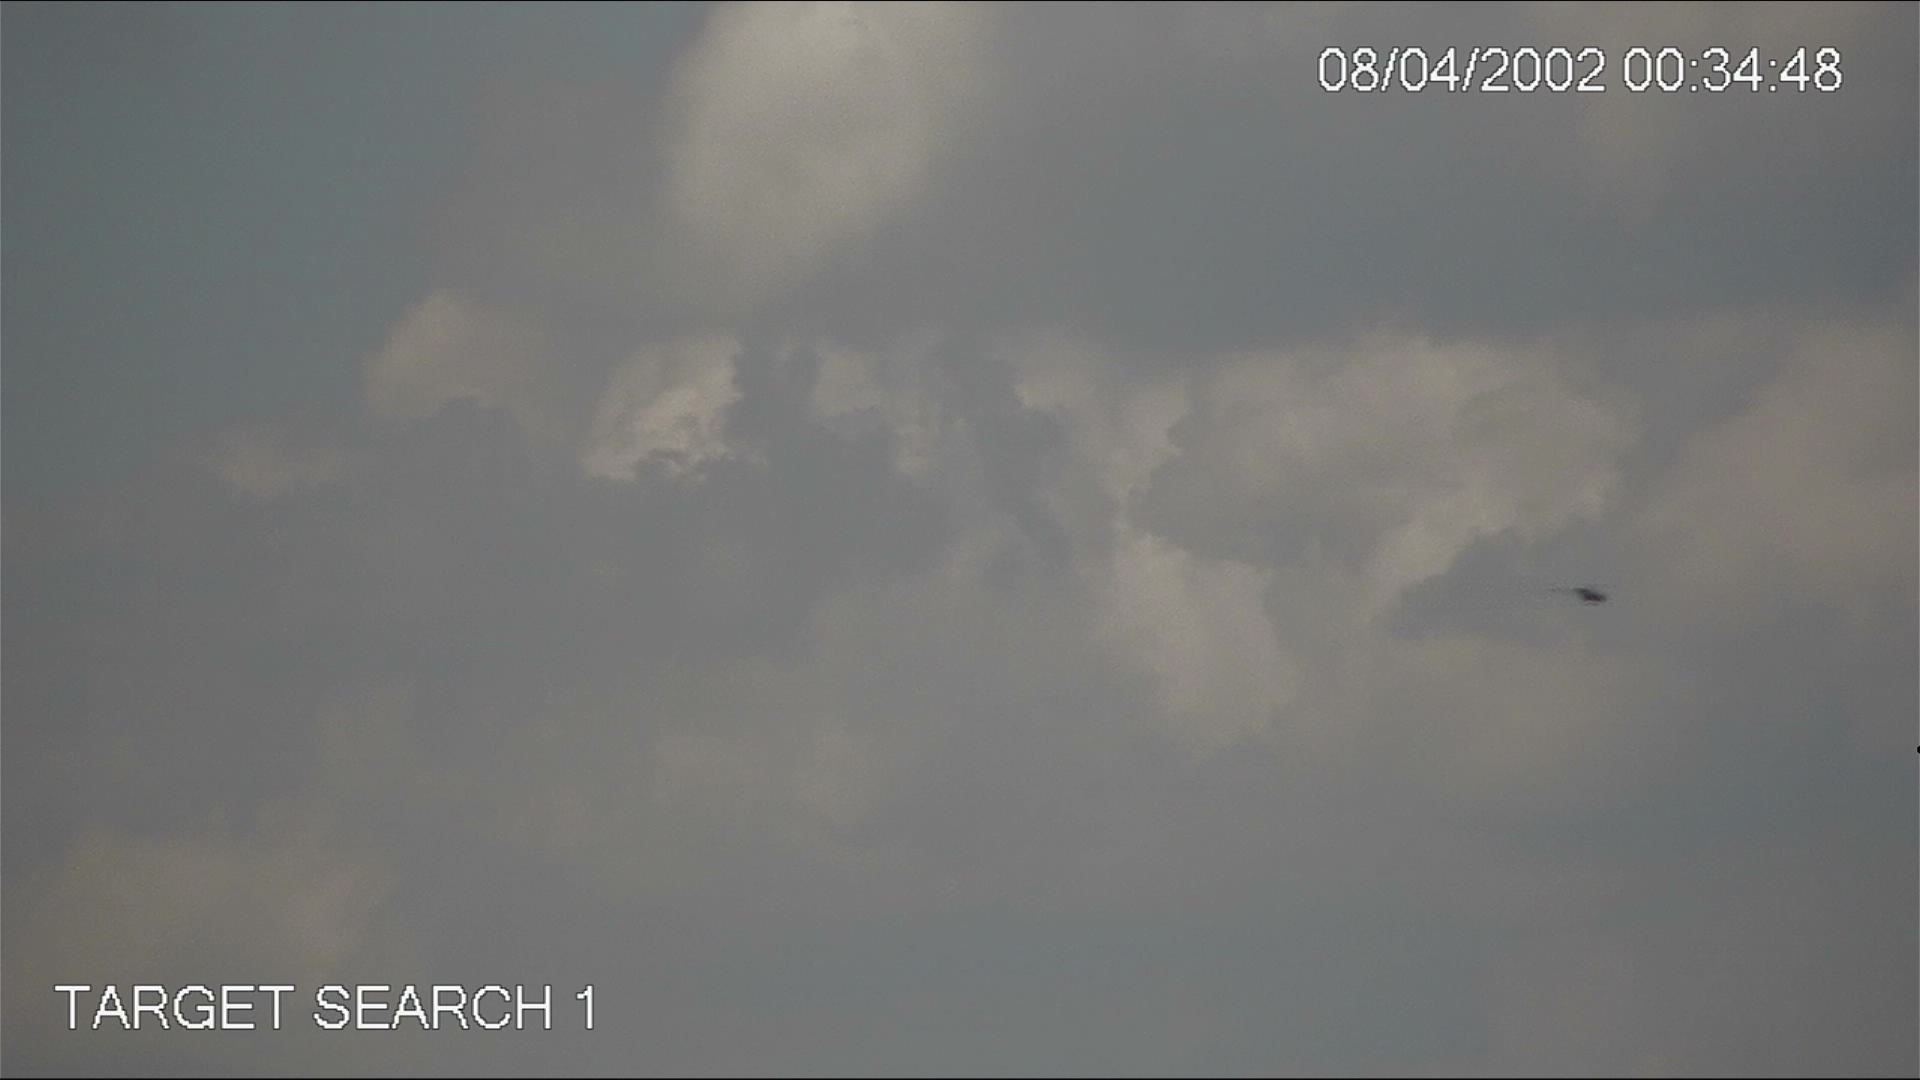SU_30: (1540, 578, 1615, 608)
